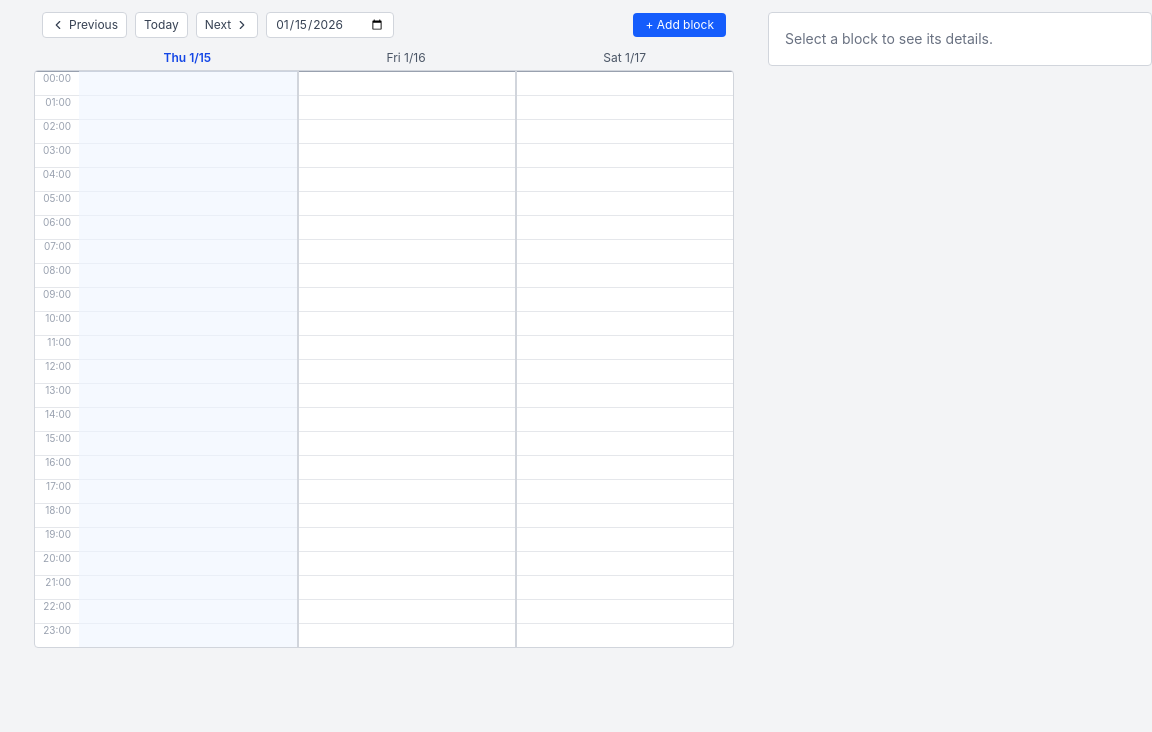
Test: CalendarPage grid › jumps to a chosen day via the date input
In the date field with test id "calendar-date": (330, 25) top-left (266, 12), bottom-right (394, 38), type "2026-01-20"
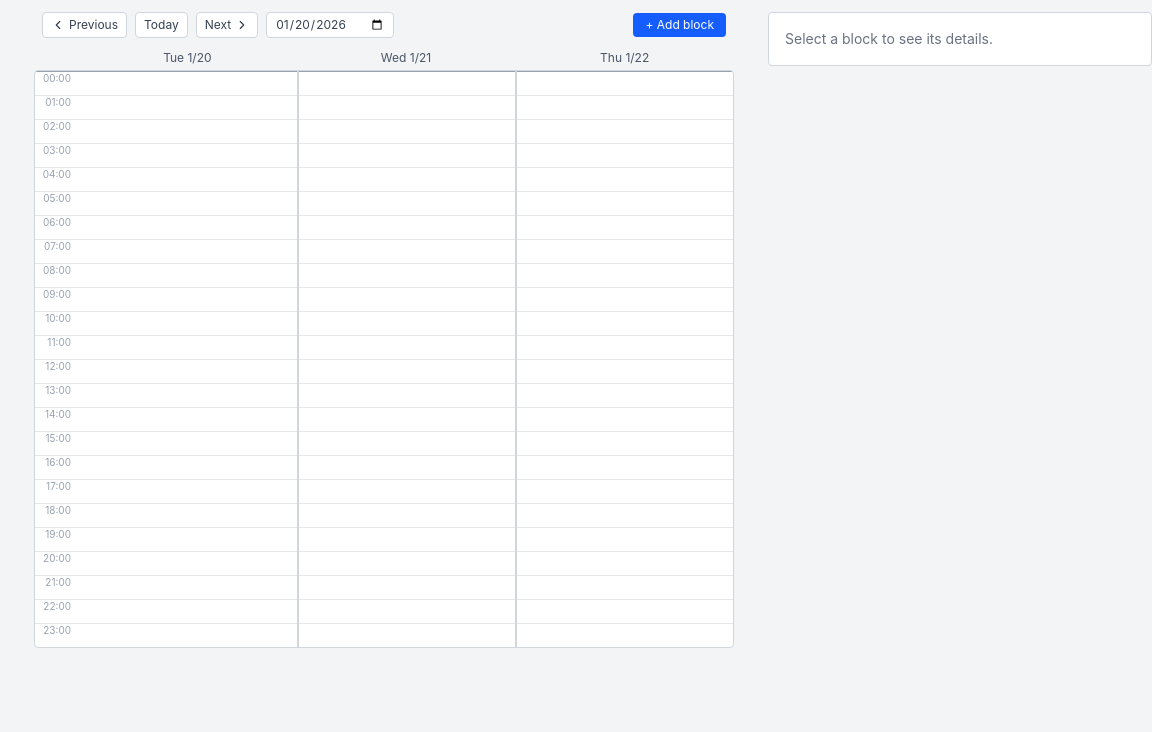
expect the text "Tue 1/20" is shown: met, box top-left (163, 50), bottom-right (212, 65)
expect the text "Wed 1/21" is shown: met, box top-left (381, 50), bottom-right (431, 65)
